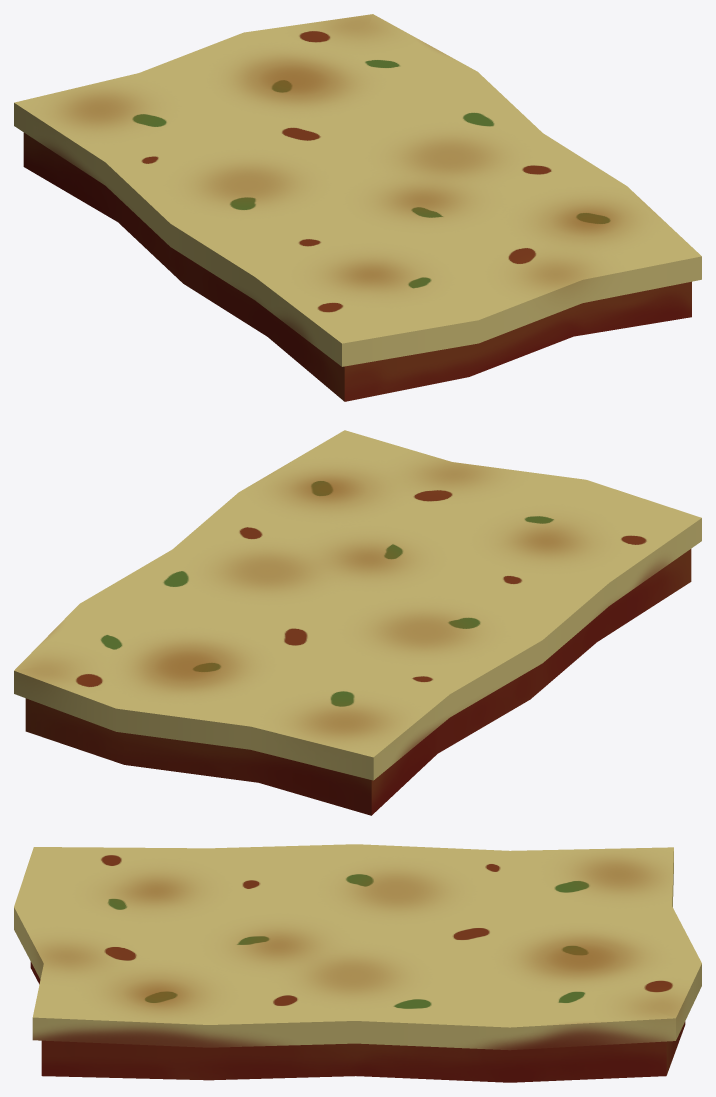
The model's file is Lasagna.fbx.
The picture shows the model from 3 angles, top to bottom: view 1: azimuth 30°, elevation 25°; view 2: azimuth 150°, elevation 25°; view 3: azimuth 270°, elevation 25°; orthographic projection. The views are drawn at different scales.
Parts seen in each view (by area): view 1: pCube22; view 2: pCube22; view 3: pCube22.
Boxes of the visible parts, box(x1,y1,x2,y2) form: pCube22: box(14, 14, 701, 401); pCube22: box(14, 430, 701, 815); pCube22: box(14, 844, 701, 1082).
Size of the model in its own units: 137 by 21.3 by 217.
